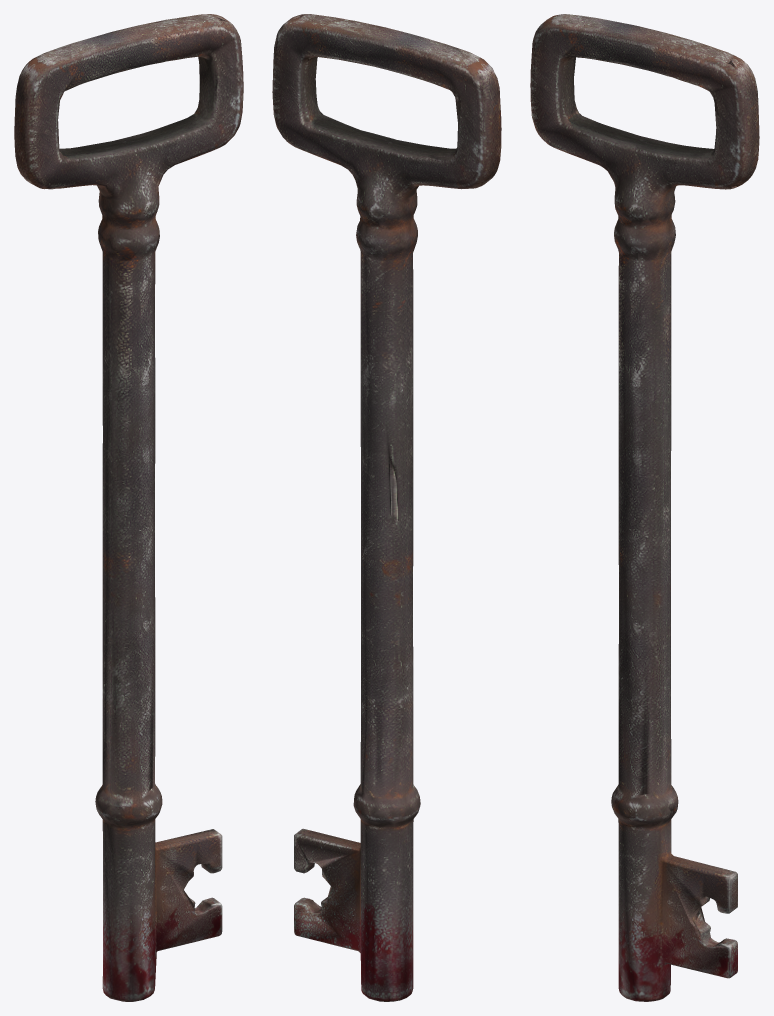
The model's file is key04.obj.
The picture shows the model from 3 angles, left to right: view 1: azimuth 30°, elevation 25°; view 2: azimuth 150°, elevation 25°; view 3: azimuth 330°, elevation 25°; orthographic projection.
Visible parts, largest first — view 1: Meshy_AI_Rusty_Skeleton_Key_0714171726_texture; view 2: Meshy_AI_Rusty_Skeleton_Key_0714171726_texture; view 3: Meshy_AI_Rusty_Skeleton_Key_0714171726_texture.
Part boxes in pixels (x1,y1,x2,y2): Meshy_AI_Rusty_Skeleton_Key_0714171726_texture: (14,14,243,1001); Meshy_AI_Rusty_Skeleton_Key_0714171726_texture: (272,14,501,1001); Meshy_AI_Rusty_Skeleton_Key_0714171726_texture: (530,14,759,1001).
Bounding box in the file's own units: 0.4569 × 1.9 × 0.1189.
1 material, 1 textured.
